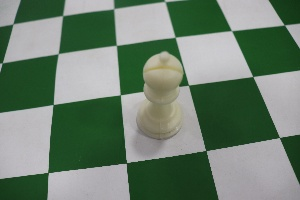white_bishop: (133, 39, 188, 146)
